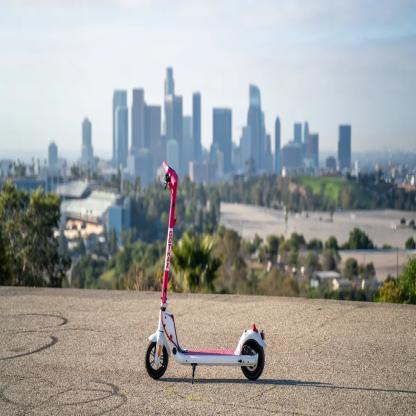kickboard: (141, 147, 269, 400)
